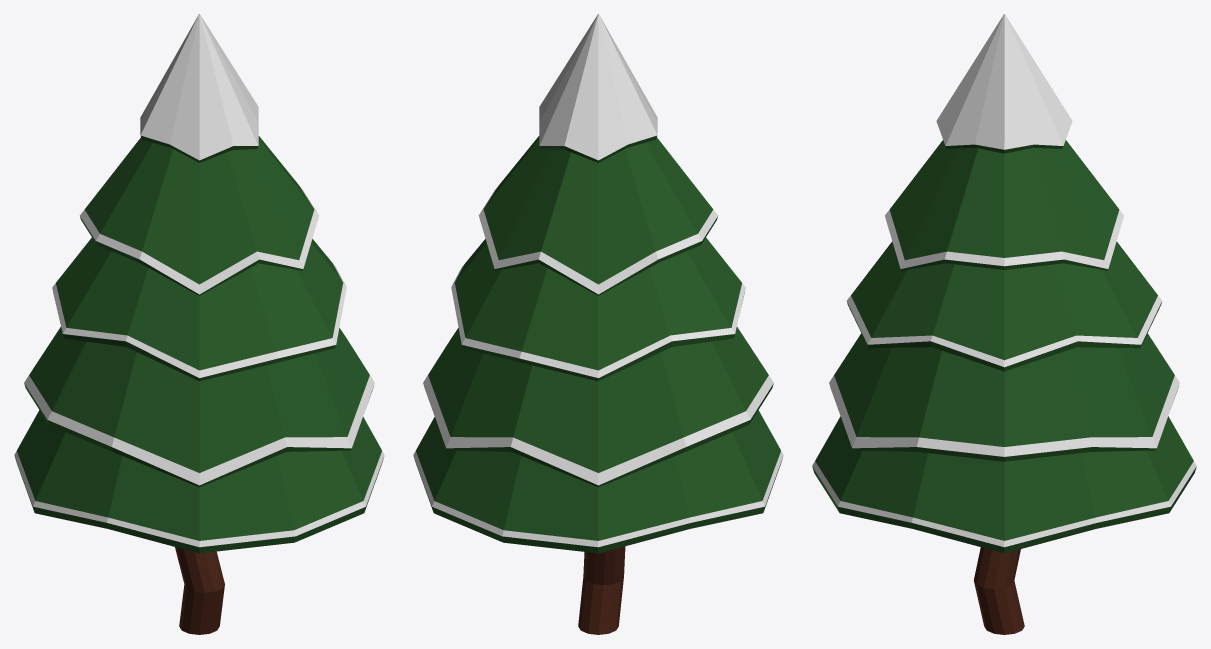
File: елка.fbx
The picture shows the model from 3 angles, left to right: view 1: azimuth 30°, elevation 25°; view 2: azimuth 150°, elevation 25°; view 3: azimuth 270°, elevation 25°; orthographic projection.
Parts seen in each view (by area): view 1: елка_1.001; view 2: елка_1.001; view 3: елка_1.001.
Boxes of the visible parts, left/top/right/bottom form: елка_1.001: left=14, top=14, right=384, bottom=634; елка_1.001: left=413, top=14, right=783, bottom=634; елка_1.001: left=812, top=14, right=1196, bottom=634.
Bounding box in the file's own units: 169 × 297 × 169.
